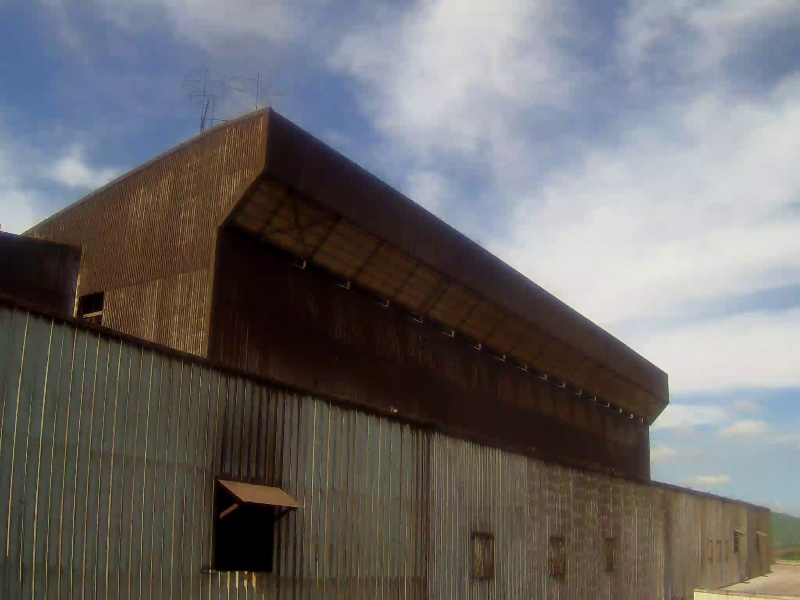bom: (256, 36, 679, 420), (617, 256, 794, 498)
ruim: (8, 4, 282, 130)
